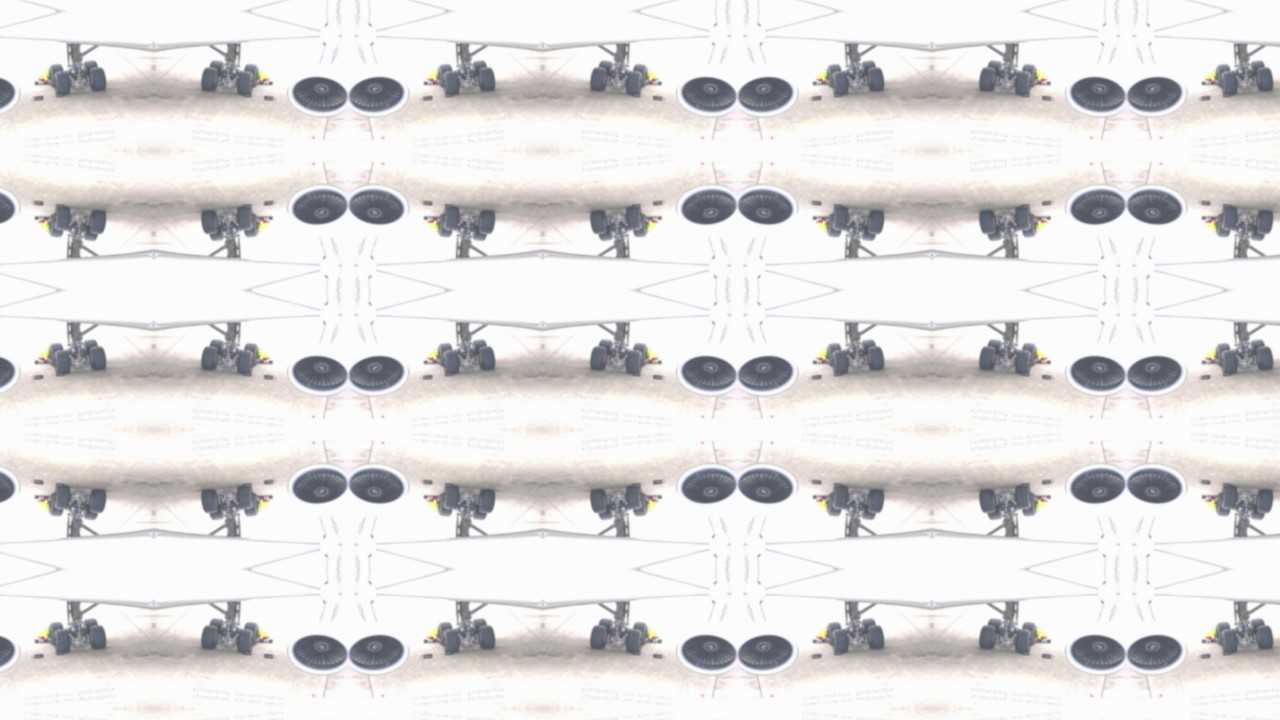chock: (52, 91, 64, 97), (241, 91, 253, 97), (442, 91, 454, 97), (631, 91, 643, 97), (832, 91, 844, 97), (1021, 91, 1033, 97), (1222, 91, 1234, 97), (52, 203, 64, 209), (241, 203, 253, 209), (442, 203, 454, 209), (631, 203, 643, 209), (832, 203, 844, 209), (1021, 203, 1033, 209), (1222, 203, 1234, 209), (52, 371, 64, 377), (241, 371, 253, 377), (442, 371, 454, 377), (631, 371, 643, 377), (832, 371, 844, 377), (1021, 371, 1033, 377), (1222, 371, 1234, 377), (52, 483, 64, 489), (241, 483, 253, 489), (442, 483, 454, 489), (631, 483, 643, 489), (832, 483, 844, 489), (1021, 483, 1033, 489), (1222, 483, 1234, 489), (52, 651, 64, 657), (241, 651, 253, 657), (442, 651, 454, 657), (631, 651, 643, 657), (832, 651, 844, 657), (1021, 651, 1033, 657), (1222, 651, 1234, 657), (30, 95, 42, 100), (263, 95, 275, 100), (420, 95, 432, 100), (653, 95, 665, 100), (810, 95, 822, 100), (1043, 95, 1055, 100), (1200, 95, 1212, 100), (30, 200, 42, 205), (263, 200, 275, 205), (420, 200, 432, 205), (653, 200, 665, 205), (810, 200, 822, 205), (1043, 200, 1055, 205), (1200, 200, 1212, 205), (30, 375, 42, 380), (263, 375, 275, 380), (420, 375, 432, 380), (653, 375, 665, 380), (810, 375, 822, 380), (1043, 375, 1055, 380), (1200, 375, 1212, 380), (30, 480, 42, 485), (263, 480, 275, 485), (420, 480, 432, 485), (653, 480, 665, 485), (810, 480, 822, 485), (1043, 480, 1055, 485), (1200, 480, 1212, 485), (30, 655, 42, 660), (263, 655, 275, 660), (420, 655, 432, 660), (653, 655, 665, 660), (810, 655, 822, 660), (1043, 655, 1055, 660), (1200, 655, 1212, 660)
wheel: (51, 68, 69, 96), (236, 68, 254, 96), (441, 68, 459, 96), (626, 68, 644, 96), (831, 68, 849, 96), (1016, 68, 1034, 96), (1221, 68, 1239, 96), (51, 204, 69, 232), (236, 204, 254, 232), (441, 204, 459, 232), (626, 204, 644, 232), (831, 204, 849, 232), (1016, 204, 1034, 232), (1221, 204, 1239, 232), (51, 348, 69, 376), (236, 348, 254, 376), (441, 348, 459, 376), (626, 348, 644, 376), (831, 348, 849, 376), (1016, 348, 1034, 376), (1221, 348, 1239, 376), (51, 484, 69, 512), (236, 484, 254, 512), (441, 484, 459, 512), (626, 484, 644, 512), (831, 484, 849, 512), (1016, 484, 1034, 512), (1221, 484, 1239, 512), (51, 628, 69, 656), (236, 628, 254, 656), (441, 628, 459, 656), (626, 628, 644, 656), (831, 628, 849, 656), (1016, 628, 1034, 656), (1221, 628, 1239, 656), (86, 65, 105, 91), (200, 65, 219, 91), (476, 65, 495, 91), (590, 65, 609, 91), (866, 65, 885, 91), (980, 65, 999, 91), (1256, 65, 1275, 91), (86, 209, 105, 235), (200, 209, 219, 235), (476, 209, 495, 235), (590, 209, 609, 235), (866, 209, 885, 235), (980, 209, 999, 235), (1256, 209, 1275, 235), (86, 345, 105, 371), (200, 345, 219, 371), (476, 345, 495, 371), (590, 345, 609, 371), (866, 345, 885, 371), (980, 345, 999, 371), (1256, 345, 1275, 371), (86, 489, 105, 515), (200, 489, 219, 515), (476, 489, 495, 515), (590, 489, 609, 515), (866, 489, 885, 515), (980, 489, 999, 515), (1256, 489, 1275, 515), (86, 625, 105, 651), (200, 625, 219, 651), (476, 625, 495, 651), (590, 625, 609, 651), (866, 625, 885, 651), (980, 625, 999, 651), (1256, 625, 1275, 651), (46, 62, 63, 87), (242, 62, 259, 87), (436, 62, 453, 87), (632, 62, 649, 87), (826, 62, 843, 87), (1022, 62, 1039, 87), (1216, 62, 1233, 87), (46, 213, 63, 238), (242, 213, 259, 238), (436, 213, 453, 238), (632, 213, 649, 238), (826, 213, 843, 238), (1022, 213, 1039, 238), (1216, 213, 1233, 238), (46, 342, 63, 367), (242, 342, 259, 367), (436, 342, 453, 367), (632, 342, 649, 367), (826, 342, 843, 367), (1022, 342, 1039, 367), (1216, 342, 1233, 367), (46, 493, 63, 518), (242, 493, 259, 518), (436, 493, 453, 518), (632, 493, 649, 518), (826, 493, 843, 518), (1022, 493, 1039, 518), (1216, 493, 1233, 518), (46, 622, 63, 647), (242, 622, 259, 647), (436, 622, 453, 647), (632, 622, 649, 647), (826, 622, 843, 647), (1022, 622, 1039, 647), (1216, 622, 1233, 647), (80, 58, 96, 75), (209, 58, 225, 75), (470, 58, 486, 75), (599, 58, 615, 75), (860, 58, 876, 75), (989, 58, 1005, 75), (1250, 58, 1266, 75), (80, 225, 96, 242), (209, 225, 225, 242), (470, 225, 486, 242), (599, 225, 615, 242), (860, 225, 876, 242), (989, 225, 1005, 242), (1250, 225, 1266, 242), (80, 338, 96, 355), (209, 338, 225, 355), (470, 338, 486, 355), (599, 338, 615, 355), (860, 338, 876, 355), (989, 338, 1005, 355), (1250, 338, 1266, 355), (80, 505, 96, 522), (209, 505, 225, 522), (470, 505, 486, 522), (599, 505, 615, 522), (860, 505, 876, 522), (989, 505, 1005, 522), (1250, 505, 1266, 522), (80, 618, 96, 635), (209, 618, 225, 635), (470, 618, 486, 635), (599, 618, 615, 635), (860, 618, 876, 635), (989, 618, 1005, 635), (1250, 618, 1266, 635)
